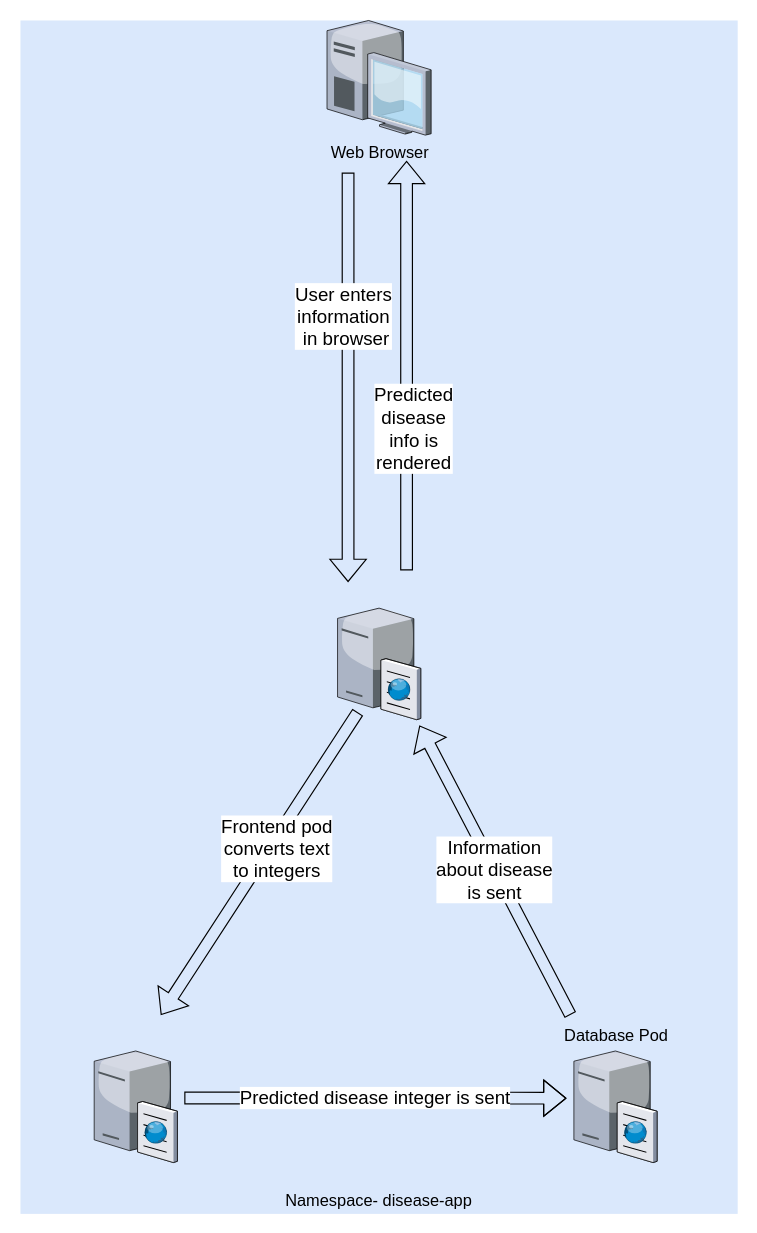
This 757x1233 diagram has some shape labels left out. The shapes that lost their labels are listed below. From the top down, each one's box as (x1, y1, x2, y2) in pixels, then its label:
(337, 605, 420, 719): Frontend Pod
(94, 1048, 177, 1162): Prediction Pod
